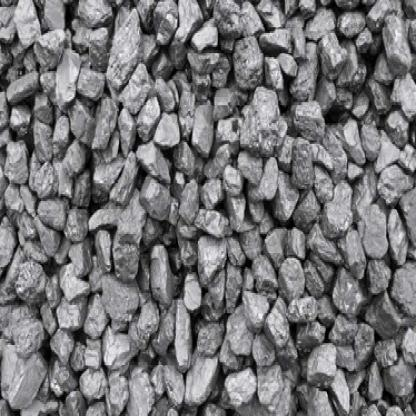Sedimentary_coal: (107, 0, 151, 92), (237, 78, 284, 158), (0, 340, 48, 411), (96, 270, 136, 340), (377, 3, 415, 74), (182, 357, 220, 413), (110, 206, 142, 272), (103, 139, 136, 201), (226, 302, 258, 362), (375, 160, 413, 206), (362, 201, 390, 262), (321, 192, 356, 240), (172, 300, 194, 373), (294, 88, 324, 134), (29, 112, 53, 160), (248, 257, 276, 298), (282, 250, 304, 298), (190, 112, 212, 160), (179, 270, 205, 310), (175, 180, 200, 220)
